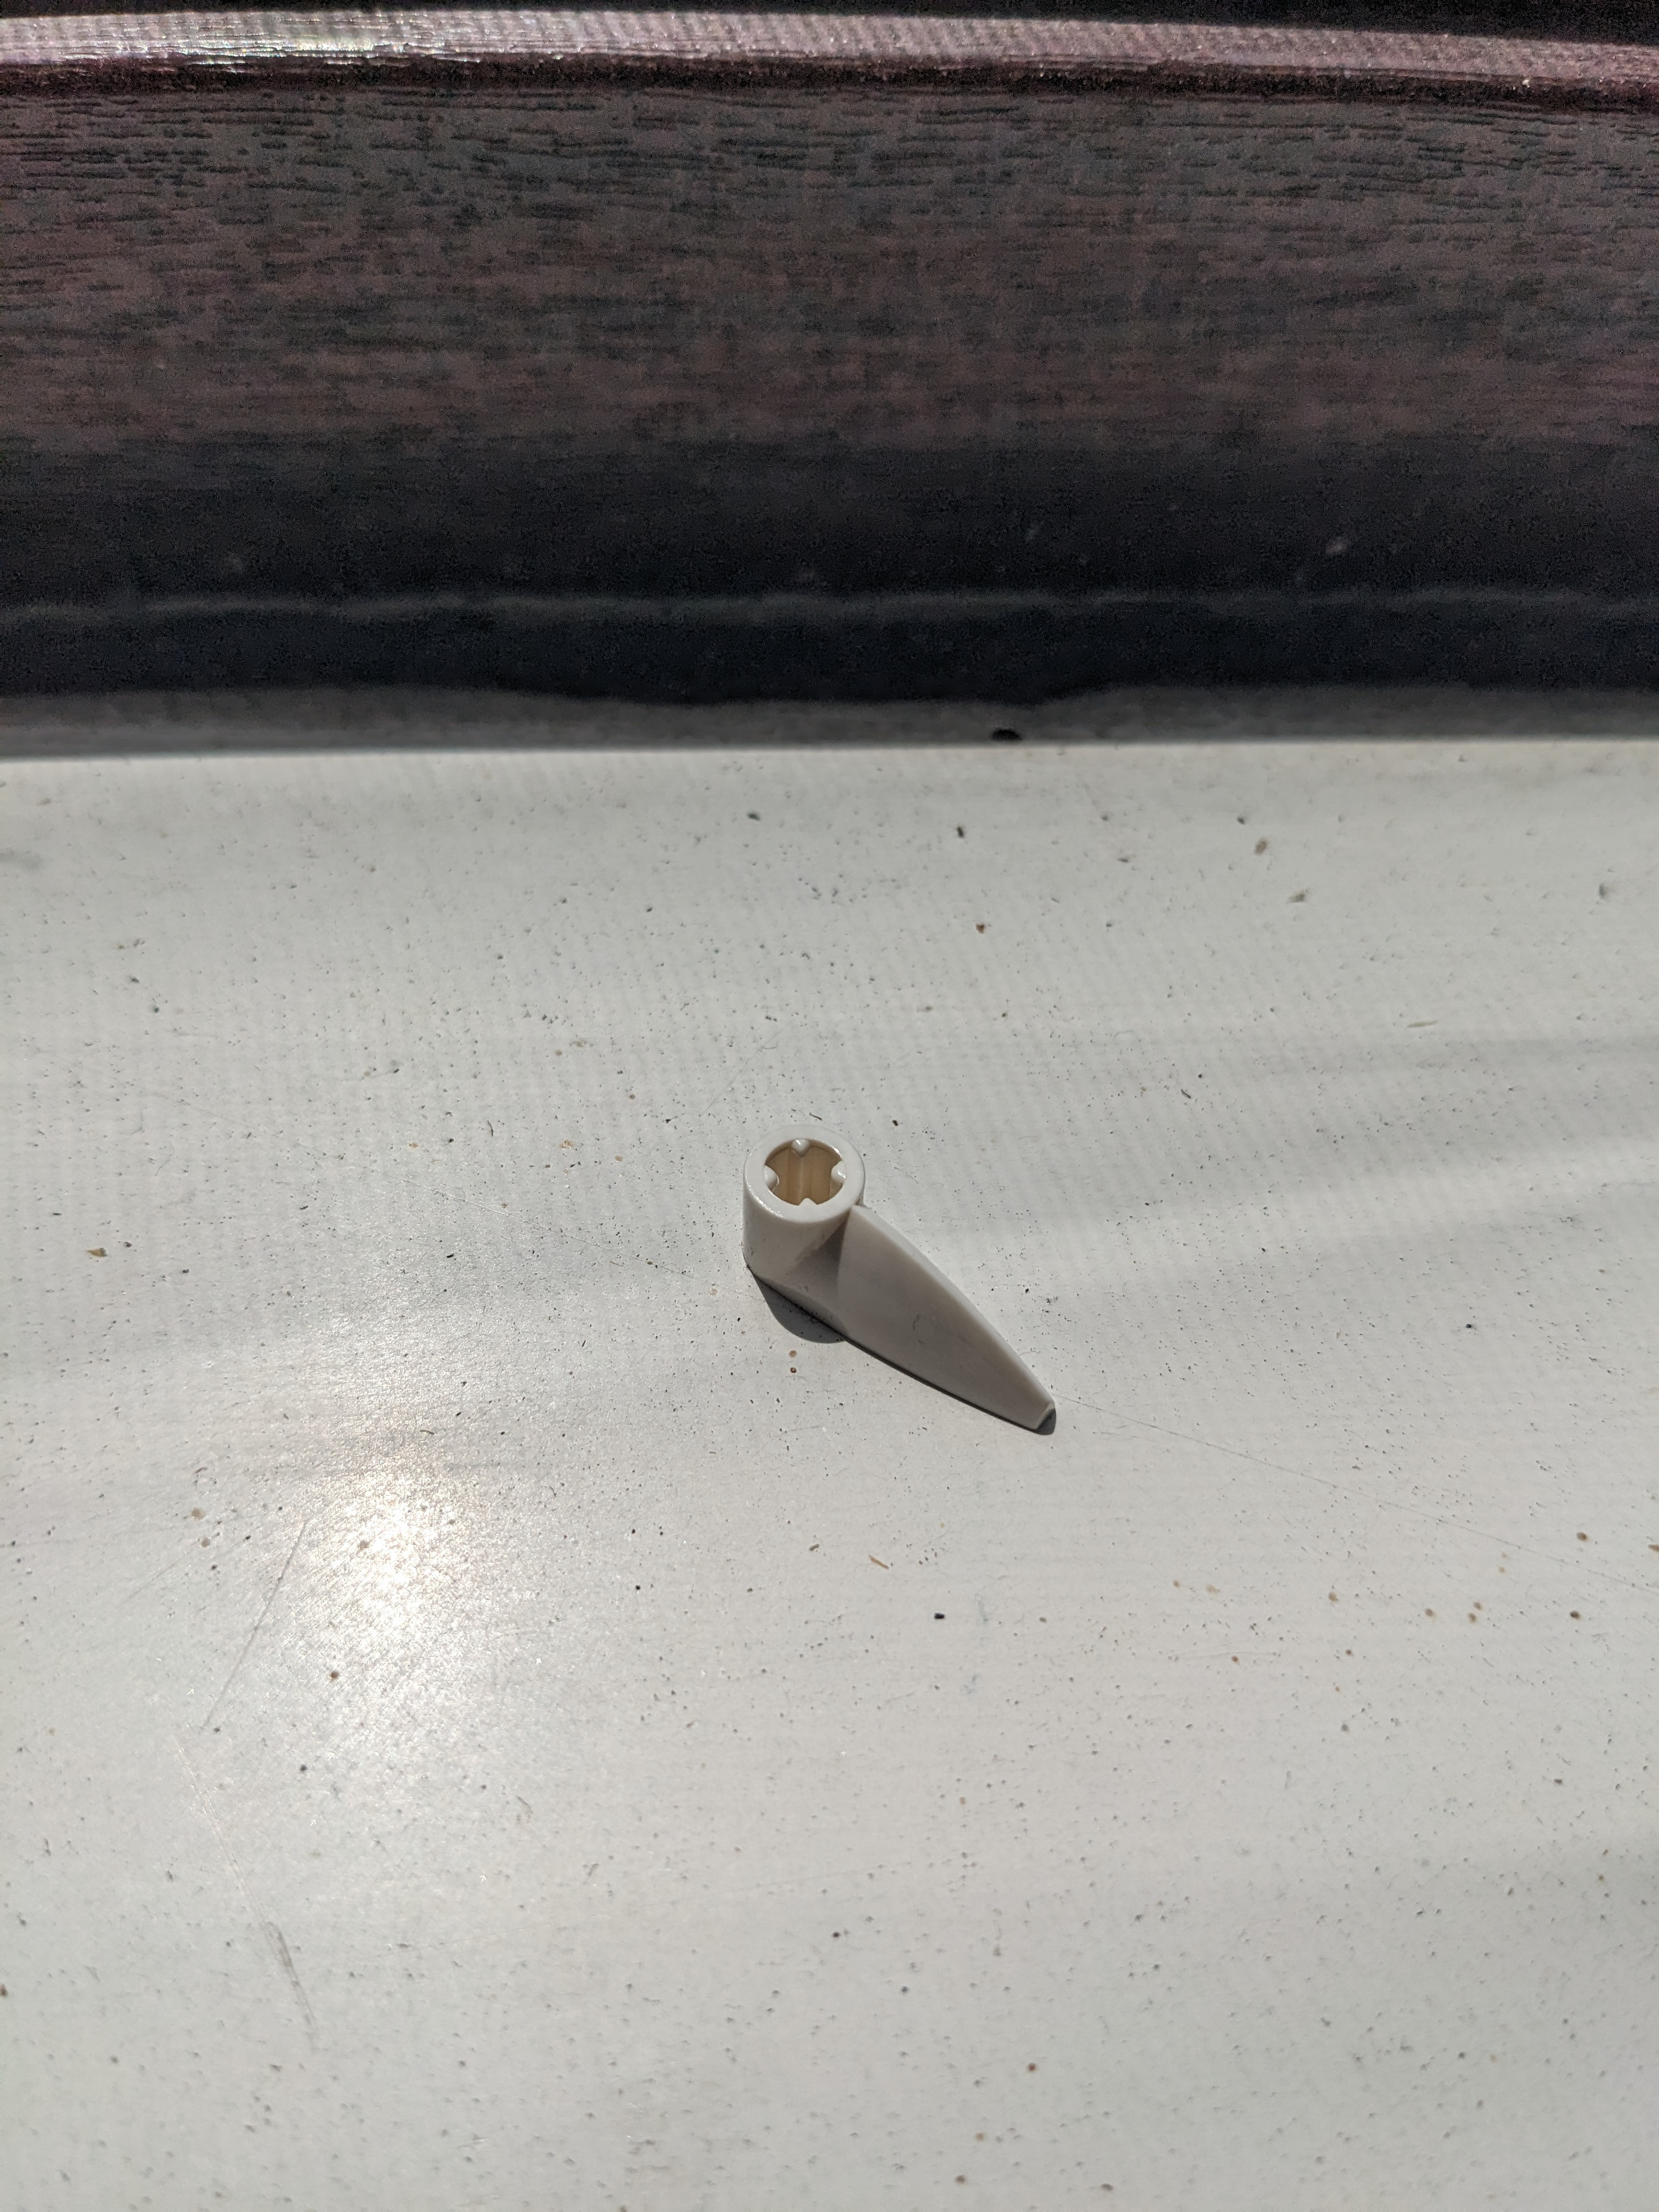Kappe: (723, 1115, 1073, 1465)
